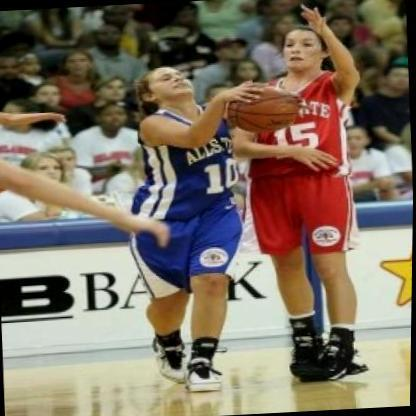basketball: (216, 78, 306, 138)
